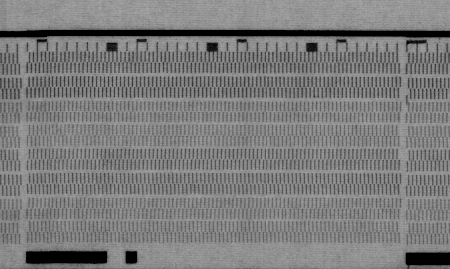Oblique printing: (403, 87, 413, 103)
